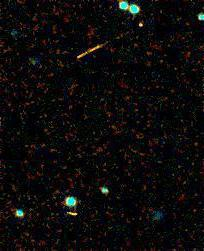star: (128, 8, 158, 38)
